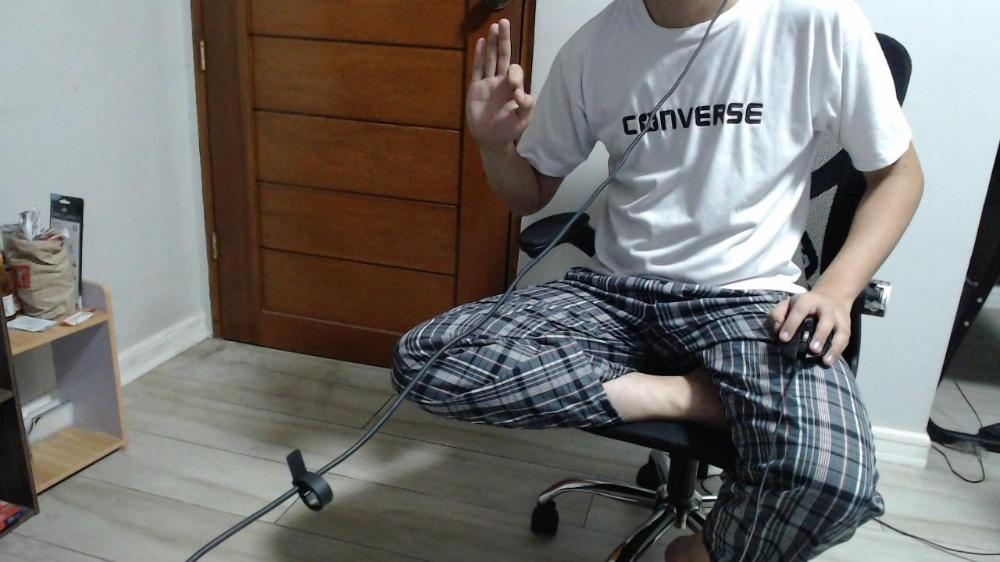f: (466, 18, 533, 138)
